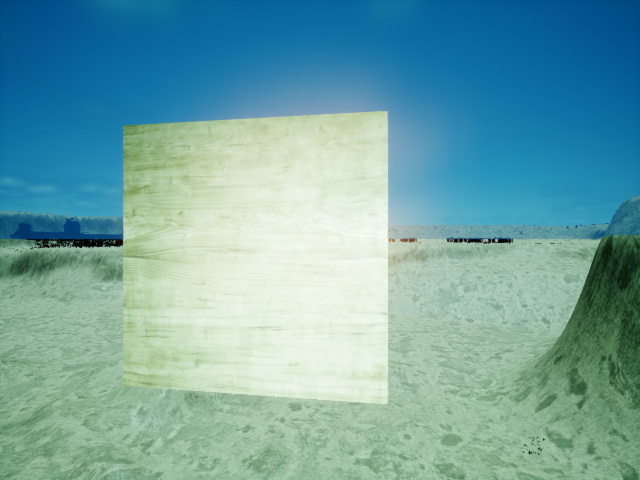Cube: (97, 105, 397, 411)
